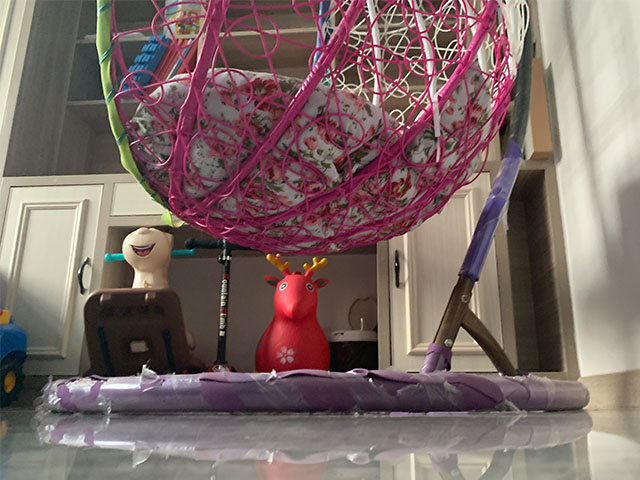cabinet: (374, 169, 516, 374), (1, 171, 114, 384)
